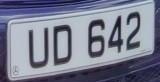2: (125, 8, 143, 55)
4: (108, 10, 125, 59)
6: (86, 14, 108, 65)
D: (51, 20, 76, 69)
U: (26, 22, 52, 73)
